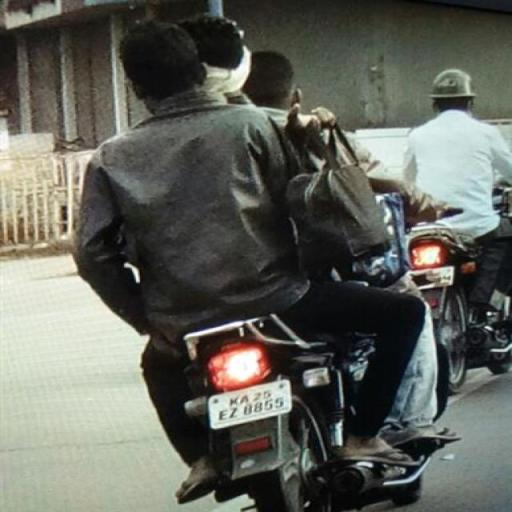tripple riding: (68, 8, 380, 298)
